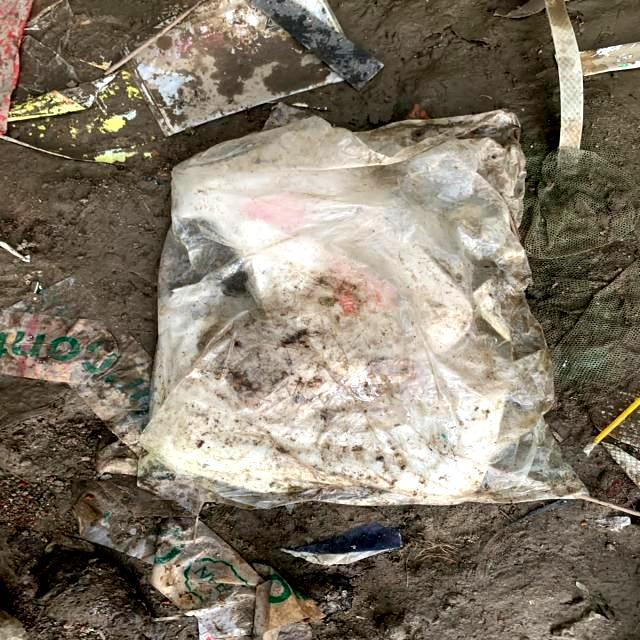polythene: (158, 114, 590, 517)
